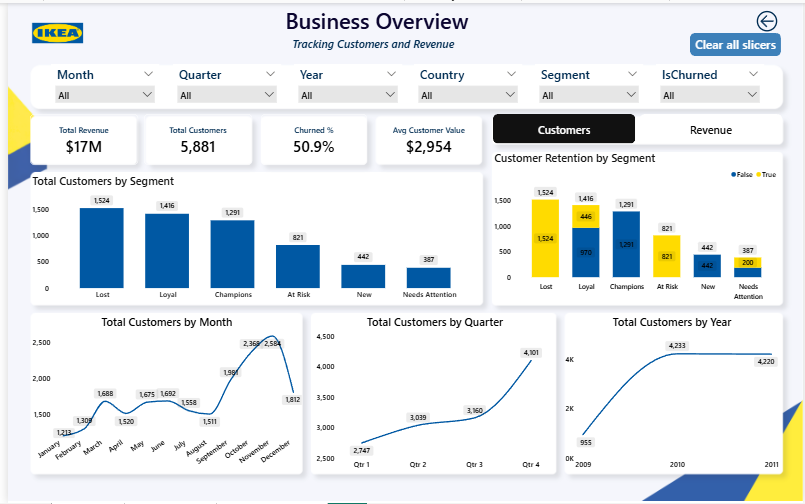

This screenshot's page, from the dashboard's own definition file:
{"tool":"powerbi","page":{"name":"Overview","canvas":[1750,1100],"ordinal":1},"visuals":[{"type":"cardVisual","fields":{"Data":["Meaure_Table.Total Revenue"]},"box":[48.4,244.2,237.6,112.2],"z":0},{"type":"columnChart","fields":{"Category":["Sheet1.Segment"],"Y":["Meaure_Table.Total Customers"]},"box":[48.4,374,992.2,288.2],"z":0,"group":"g1"},{"type":"cardVisual","fields":{"Data":["Meaure_Table.Total Customers"]},"box":[299.2,244.2,237.6,112.2],"z":1000},{"type":"columnChart","title":"Customer Retention by Segment","fields":{"Category":["Sheet1.Segment"],"Y":["Meaure_Table.Total Customers"],"Series":["Sheet1.IsChurned"]},"box":[1064.8,323.4,635.8,338.8],"z":1000,"group":"g1"},{"type":"cardVisual","fields":{"Data":["Meaure_Table.Churned %"]},"box":[556.6,244.2,233.2,112.2],"z":2000},{"type":"lineChart","title":"Total Customers by Month","fields":{"Category":["Sheet1.InvoiceDate.Variation.Date Hierarchy.Month"],"Y":["Meaure_Table.Total Customers"]},"box":[48.4,684.2,602.8,352],"z":2000,"group":"g1"},{"type":"cardVisual","fields":{"Data":["Meaure_Table.Avg Customer Value"]},"box":[811.8,244.2,228.8,112.2],"z":3000},{"type":"lineChart","title":"Total Customers by Quarter","fields":{"Category":["Sheet1.InvoiceDate.Variation.Date Hierarchy.Quarter"],"Y":["Meaure_Table.Total Customers"]},"box":[673.2,684.2,532.4,352],"z":3000,"group":"g1"},{"type":"slicer","fields":{"Values":["Sheet1.InvoiceDate.Variation.Date Hierarchy.Month"]},"box":[94.6,134.2,237.6,92.4],"z":4000},{"type":"lineChart","title":"Total Customers by Year","fields":{"Category":["Sheet1.InvoiceDate.Variation.Date Hierarchy.Year"],"Y":["Meaure_Table.Total Customers"]},"box":[1221,684.2,479.6,352],"z":4000,"group":"g1"},{"type":"slicer","fields":{"Values":["Sheet1.InvoiceDate.Variation.Date Hierarchy.Quarter"]},"box":[362.6,134.2,237.6,92.4],"z":5000},{"type":"slicer","fields":{"Values":["Sheet1.InvoiceDate.Variation.Date Hierarchy.Year"]},"box":[628.3,134.2,237.6,92.4],"z":6000},{"type":"slicer","fields":{"Values":["Sheet1.Country"]},"box":[894.1,134.2,237.6,92.4],"z":7000},{"type":"slicer","fields":{"Values":["Sheet1.Segment"]},"box":[1159.8,134.2,237.6,92.4],"z":8000},{"type":"slicer","fields":{"Values":["Sheet1.IsChurned"]},"box":[1425.6,134.2,237.6,92.4],"z":9000},{"type":"group","id":"g1","title":"Customers","box":[48.4,323.4,1652.2,712.8],"z":10000},{"type":"bookmarkNavigator","box":[1065.9,243.2,636.4,65.9],"z":12000},{"type":"image","box":[28.6,17.6,160.6,96.8],"z":13000},{"type":"textbox","box":[604.4,0,541.2,88],"z":14000},{"type":"textbox","box":[620.4,68.2,382.8,48.4],"z":15000},{"type":"actionButton","box":[1636.8,11,66,55],"z":16000},{"type":"actionButton","box":[1500.4,66,200.2,50.6],"z":17000}]}

Visuals, with their boxes in screenshot pixels (x1, y1, x2, y2), scaled from the page's 1750x1100 canvas onto the 805x504 screenshot:
cardVisual - Meaure_Table.Total Revenue: {"left": 22, "top": 112, "right": 132, "bottom": 163}
columnChart - Sheet1.Segment x Meaure_Table.Total Customers: {"left": 22, "top": 171, "right": 479, "bottom": 303}
cardVisual - Meaure_Table.Total Customers: {"left": 138, "top": 112, "right": 247, "bottom": 163}
"Customer Retention by Segment" columnChart: {"left": 490, "top": 148, "right": 782, "bottom": 303}
cardVisual - Meaure_Table.Churned %: {"left": 256, "top": 112, "right": 363, "bottom": 163}
"Total Customers by Month" lineChart: {"left": 22, "top": 313, "right": 300, "bottom": 475}
cardVisual - Meaure_Table.Avg Customer Value: {"left": 373, "top": 112, "right": 479, "bottom": 163}
"Total Customers by Quarter" lineChart: {"left": 310, "top": 313, "right": 555, "bottom": 475}
slicer - Sheet1.InvoiceDate.Variation.Date Hierarchy.Month: {"left": 44, "top": 61, "right": 153, "bottom": 104}
"Total Customers by Year" lineChart: {"left": 562, "top": 313, "right": 782, "bottom": 475}
slicer - Sheet1.InvoiceDate.Variation.Date Hierarchy.Quarter: {"left": 167, "top": 61, "right": 276, "bottom": 104}
slicer - Sheet1.InvoiceDate.Variation.Date Hierarchy.Year: {"left": 289, "top": 61, "right": 398, "bottom": 104}
slicer - Sheet1.Country: {"left": 411, "top": 61, "right": 521, "bottom": 104}
slicer - Sheet1.Segment: {"left": 534, "top": 61, "right": 643, "bottom": 104}
slicer - Sheet1.IsChurned: {"left": 656, "top": 61, "right": 765, "bottom": 104}
"Customers" group: {"left": 22, "top": 148, "right": 782, "bottom": 475}
bookmarkNavigator: {"left": 490, "top": 111, "right": 783, "bottom": 142}
image: {"left": 13, "top": 8, "right": 87, "bottom": 52}
textbox: {"left": 278, "top": 0, "right": 527, "bottom": 40}
textbox: {"left": 285, "top": 31, "right": 461, "bottom": 53}
actionButton: {"left": 753, "top": 5, "right": 783, "bottom": 30}
actionButton: {"left": 690, "top": 30, "right": 782, "bottom": 53}
